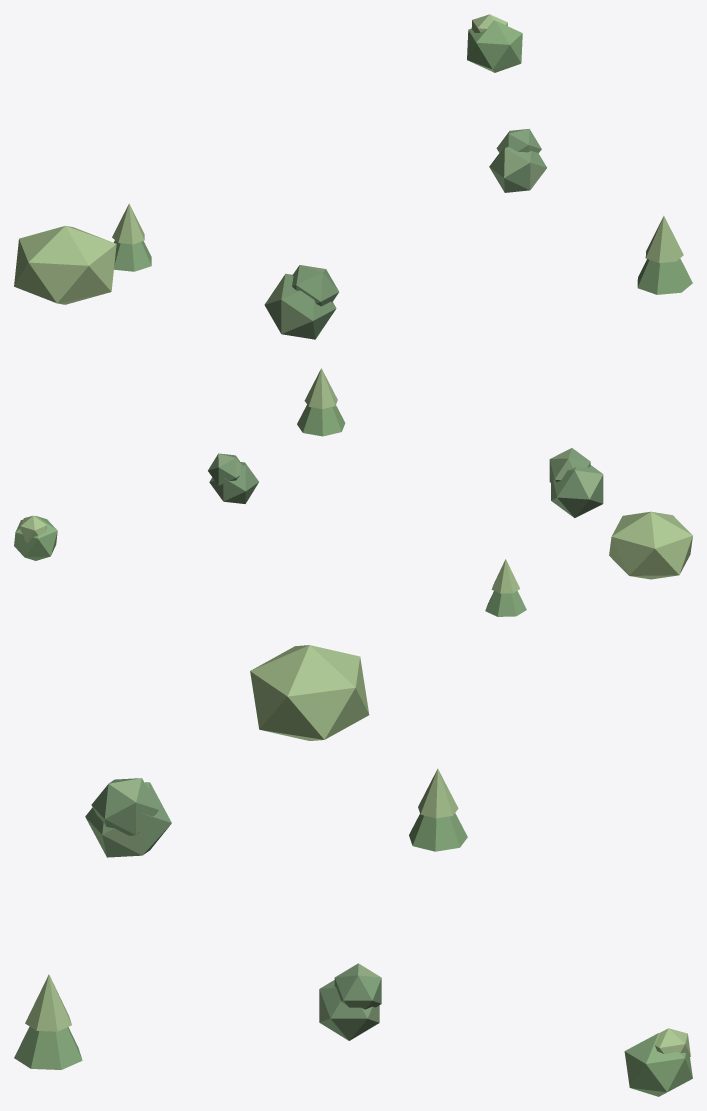
File: side_wardens_clearing_wind_canopies.fbx
3 renders of one model, top to bottom at view 1: azimuth 30°, elevation 25°; view 2: azimuth 150°, elevation 25°; view 3: azimuth 270°, elevation 25°, orthographic. The views are drawn at different scales.
Visible parts, largest first — view 1: chunk_side_wardens_clearing__tree_canopy_01, chunk_side_wardens_clearing__detail_scatter_tree_02_canopy, chunk_side_wardens_clearing__detail_scatter_tree_01_canopy, chunk_side_wardens_clearing__tree_canopy_07, chunk_side_wardens_clearing__tree_canopy_04, chunk_side_wardens_clearing__tree_canopy_05, chunk_side_wardens_clearing__tree_canopy_03, chunk_side_wardens_clearing__tree_canopy_02; view 2: chunk_side_wardens_clearing__tree_canopy_01, chunk_side_wardens_clearing__detail_scatter_tree_02_canopy, chunk_side_wardens_clearing__detail_scatter_tree_01_canopy, chunk_side_wardens_clearing__tree_canopy_04, chunk_side_wardens_clearing__tree_canopy_07, chunk_side_wardens_clearing__tree_canopy_03, chunk_side_wardens_clearing__tree_canopy_05, chunk_side_wardens_clearing__tree_canopy_02, chunk_side_wardens_clearing__tree_canopy_06; view 3: chunk_side_wardens_clearing__tree_canopy_01, chunk_side_wardens_clearing__detail_scatter_tree_02_canopy, chunk_side_wardens_clearing__detail_scatter_tree_01_canopy, chunk_side_wardens_clearing__tree_canopy_07, chunk_side_wardens_clearing__tree_canopy_04, chunk_side_wardens_clearing__tree_canopy_03, chunk_side_wardens_clearing__tree_canopy_05, chunk_side_wardens_clearing__tree_canopy_02, chunk_side_wardens_clearing__tree_canopy_06.
Boxes of the visible parts, left/top/right/bottom form: chunk_side_wardens_clearing__tree_canopy_01: left=14, top=225, right=116, bottom=304; chunk_side_wardens_clearing__detail_scatter_tree_02_canopy: left=264, top=265, right=338, bottom=339; chunk_side_wardens_clearing__detail_scatter_tree_01_canopy: left=489, top=128, right=546, bottom=192; chunk_side_wardens_clearing__tree_canopy_07: left=467, top=20, right=522, bottom=72; chunk_side_wardens_clearing__tree_canopy_04: left=637, top=258, right=692, bottom=294; chunk_side_wardens_clearing__tree_canopy_05: left=645, top=216, right=683, bottom=262; chunk_side_wardens_clearing__tree_canopy_03: left=113, top=240, right=151, bottom=271; chunk_side_wardens_clearing__tree_canopy_02: left=112, top=203, right=144, bottom=244; chunk_side_wardens_clearing__tree_canopy_01: left=609, top=511, right=692, bottom=579; chunk_side_wardens_clearing__detail_scatter_tree_02_canopy: left=549, top=448, right=603, bottom=517; chunk_side_wardens_clearing__detail_scatter_tree_01_canopy: left=208, top=453, right=258, bottom=503; chunk_side_wardens_clearing__tree_canopy_04: left=297, top=405, right=345, bottom=436; chunk_side_wardens_clearing__tree_canopy_07: left=14, top=516, right=57, bottom=560; chunk_side_wardens_clearing__tree_canopy_03: left=485, top=590, right=526, bottom=616; chunk_side_wardens_clearing__tree_canopy_05: left=304, top=368, right=337, bottom=408; chunk_side_wardens_clearing__tree_canopy_02: left=491, top=559, right=519, bottom=593; chunk_side_wardens_clearing__tree_canopy_06: left=20, top=515, right=46, bottom=542; chunk_side_wardens_clearing__tree_canopy_01: left=250, top=645, right=369, bottom=740; chunk_side_wardens_clearing__detail_scatter_tree_02_canopy: left=85, top=778, right=171, bottom=857; chunk_side_wardens_clearing__detail_scatter_tree_01_canopy: left=319, top=963, right=381, bottom=1040; chunk_side_wardens_clearing__tree_canopy_07: left=624, top=1033, right=692, bottom=1096; chunk_side_wardens_clearing__tree_canopy_04: left=14, top=1026, right=82, bottom=1069; chunk_side_wardens_clearing__tree_canopy_03: left=409, top=813, right=467, bottom=851; chunk_side_wardens_clearing__tree_canopy_05: left=25, top=974, right=71, bottom=1031; chunk_side_wardens_clearing__tree_canopy_02: left=418, top=768, right=458, bottom=818; chunk_side_wardens_clearing__tree_canopy_06: left=655, top=1028, right=690, bottom=1057.
Bounding box in the file's own units: 203 × 31.18 × 154.
